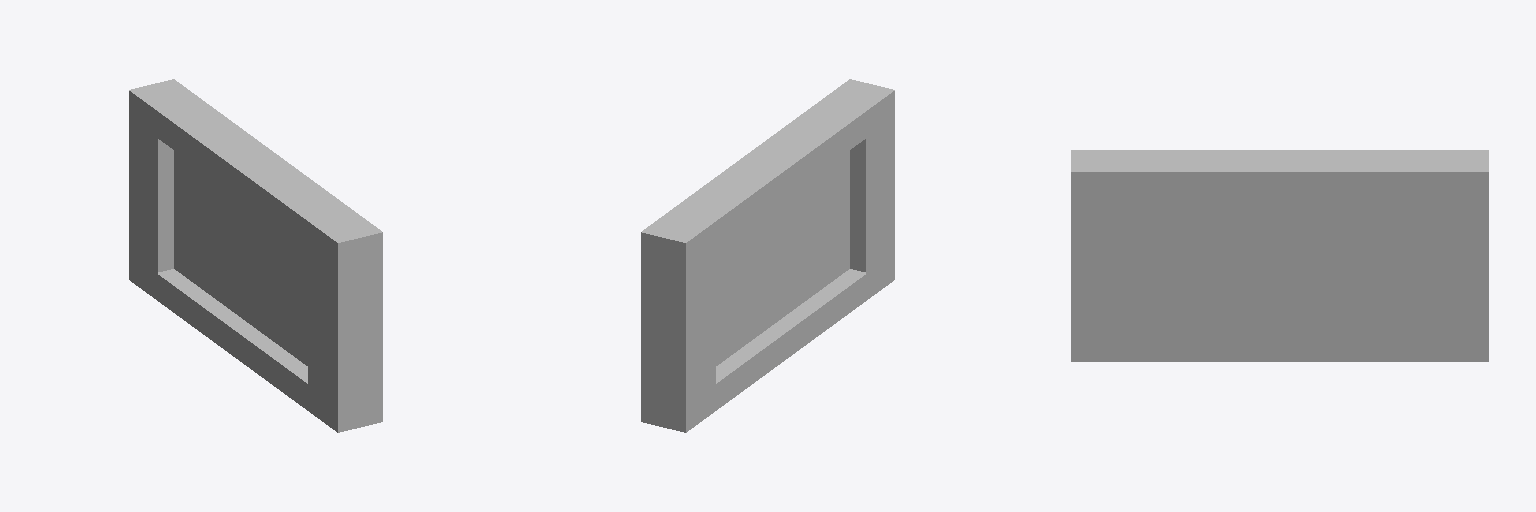
The model's file is pictureframe.obj.
The picture shows the model from 3 angles: view 1: azimuth 30°, elevation 25°; view 2: azimuth 150°, elevation 25°; view 3: azimuth 270°, elevation 25°; orthographic projection.
Visible parts, largest first — view 1: Cube; view 2: Cube; view 3: Cube.
Boxes of the visible parts, box(x1,y1,x2,y2) form: Cube: box(129, 79, 382, 432); Cube: box(641, 79, 894, 432); Cube: box(1071, 150, 1488, 361).
Size of the model in its own units: 0.5 by 2 by 4.